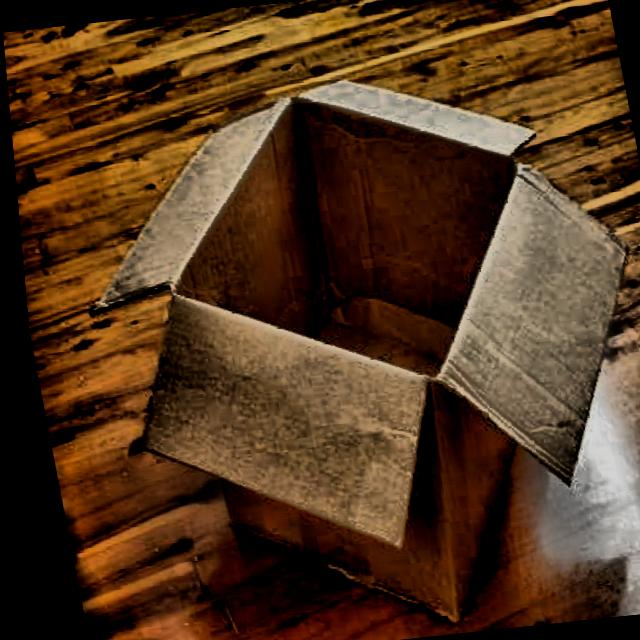Cardbox: (27, 30, 640, 640)
